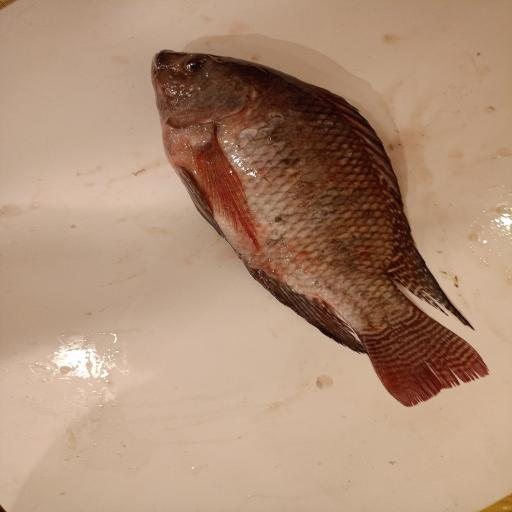Tilapia: (151, 49, 490, 407)
